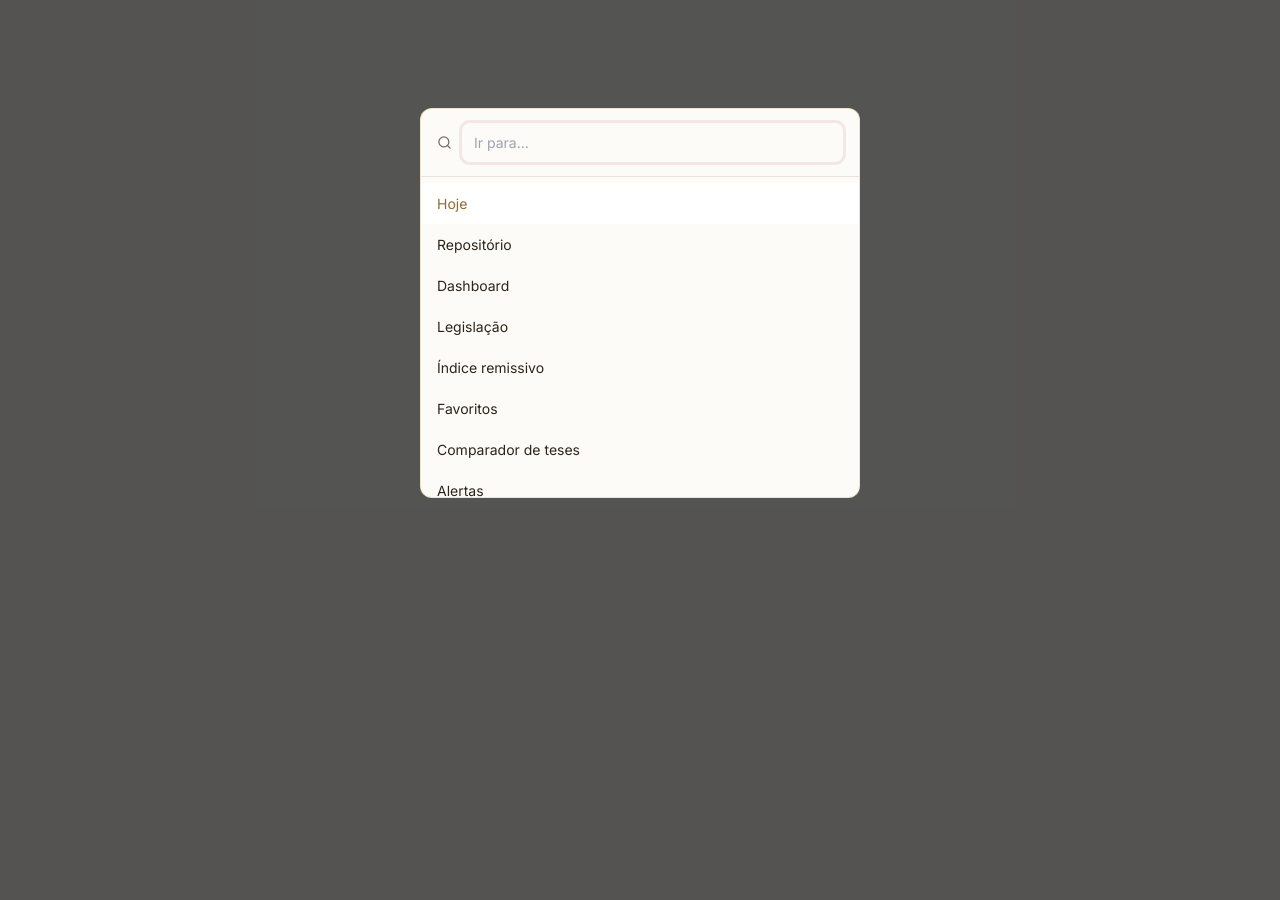
Test case: CommandPalette › filtra pelo texto digitado
In the field with placeholder "Ir para…": {"x": 652, "y": 142} [462,123,843,162], type "favor"
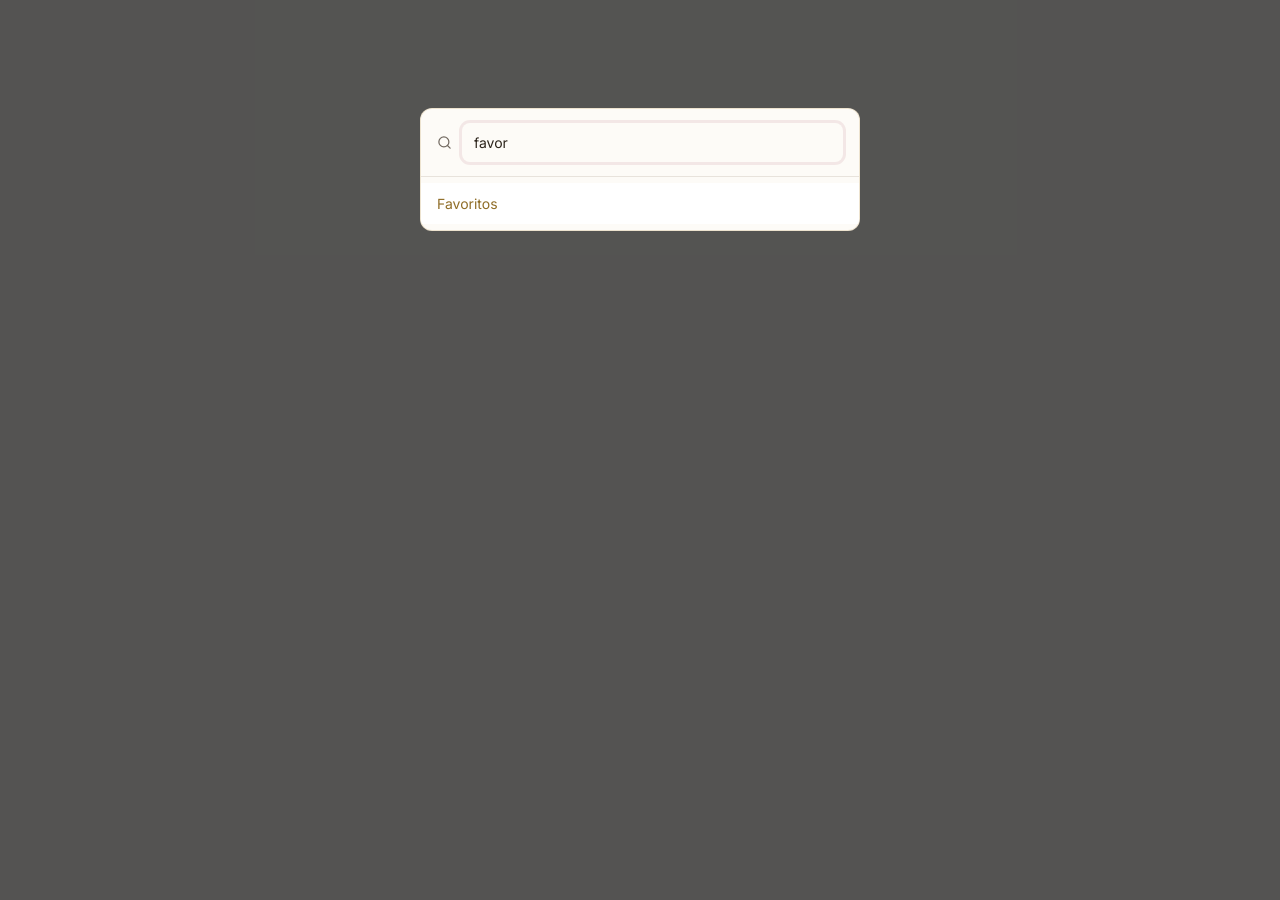
Expected: the text "Favoritos" is shown, [421,183,859,224]
Result: the text "Dashboard" is gone
